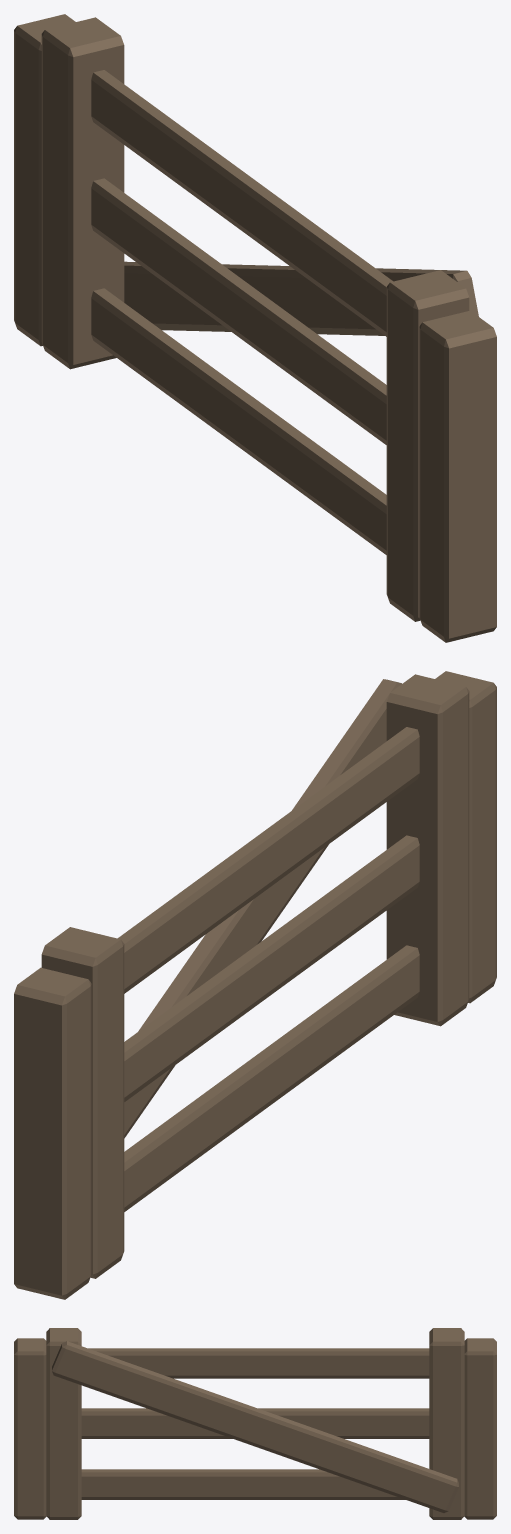
File: wood_wall.fbx
3 renders of one model, top to bottom at view 1: azimuth 30°, elevation 25°; view 2: azimuth 150°, elevation 25°; view 3: azimuth 270°, elevation 25°, orthographic. The views are drawn at different scales.
Parts seen in each view (by area): view 1: wood_wall; view 2: wood_wall; view 3: wood_wall.
Part boxes in pixels (x1,y1,x2,y2): wood_wall: [14, 14, 496, 642]; wood_wall: [14, 671, 496, 1299]; wood_wall: [14, 1328, 496, 1519].
Bounding box in the file's own units: 0.2645 × 1.14 × 2.79.
